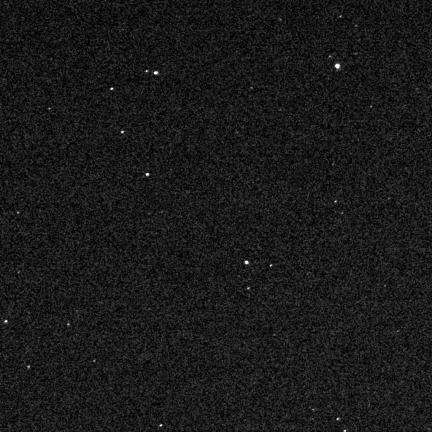blob: (335, 64, 341, 70), (67, 323, 71, 327), (334, 200, 338, 204), (27, 366, 31, 370), (154, 71, 158, 74), (245, 261, 249, 264), (111, 88, 114, 91), (247, 287, 250, 290), (5, 320, 8, 323), (146, 173, 149, 176), (146, 70, 149, 73), (122, 131, 125, 134)
